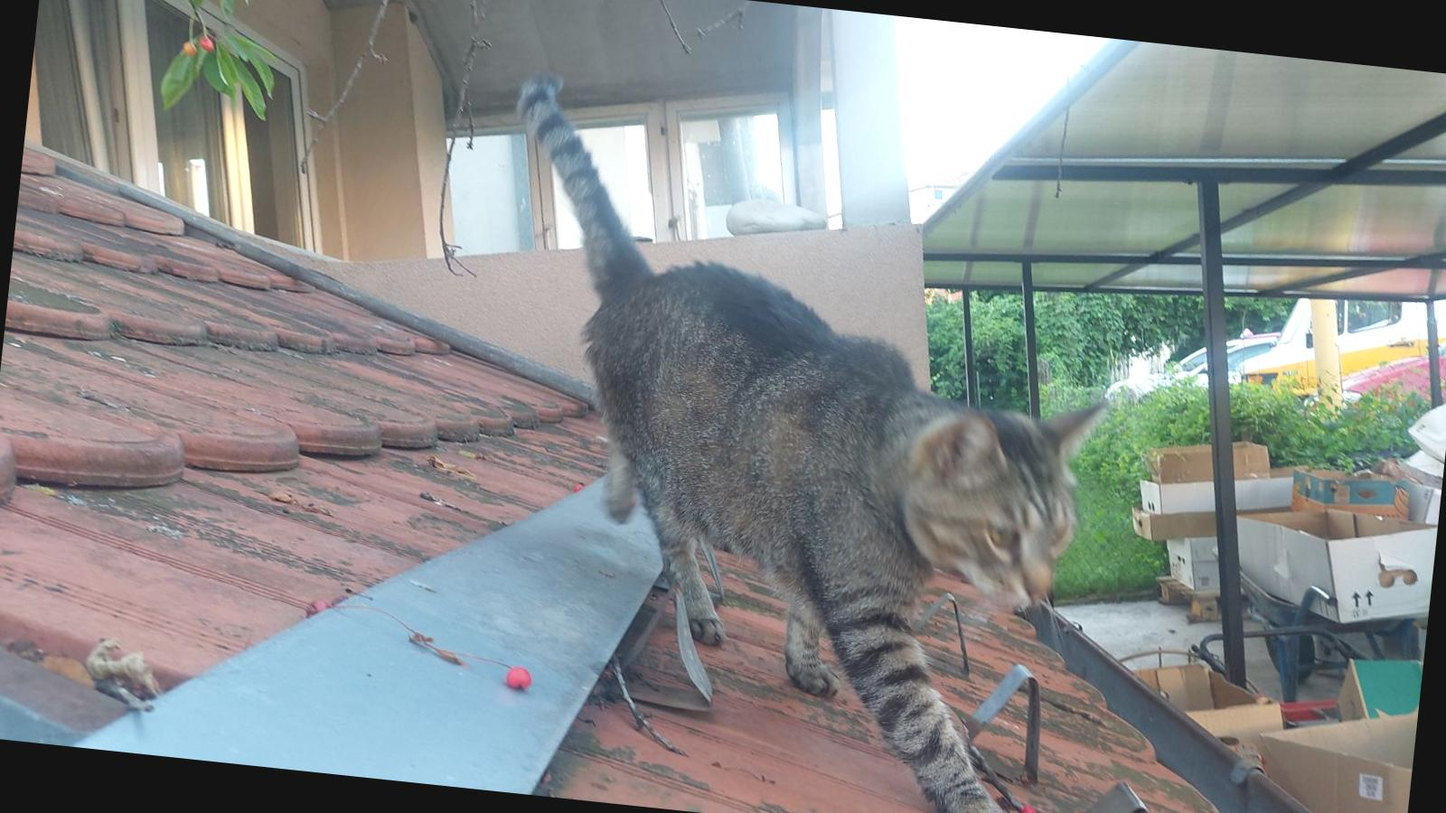macka: (443, 71, 1136, 813)
